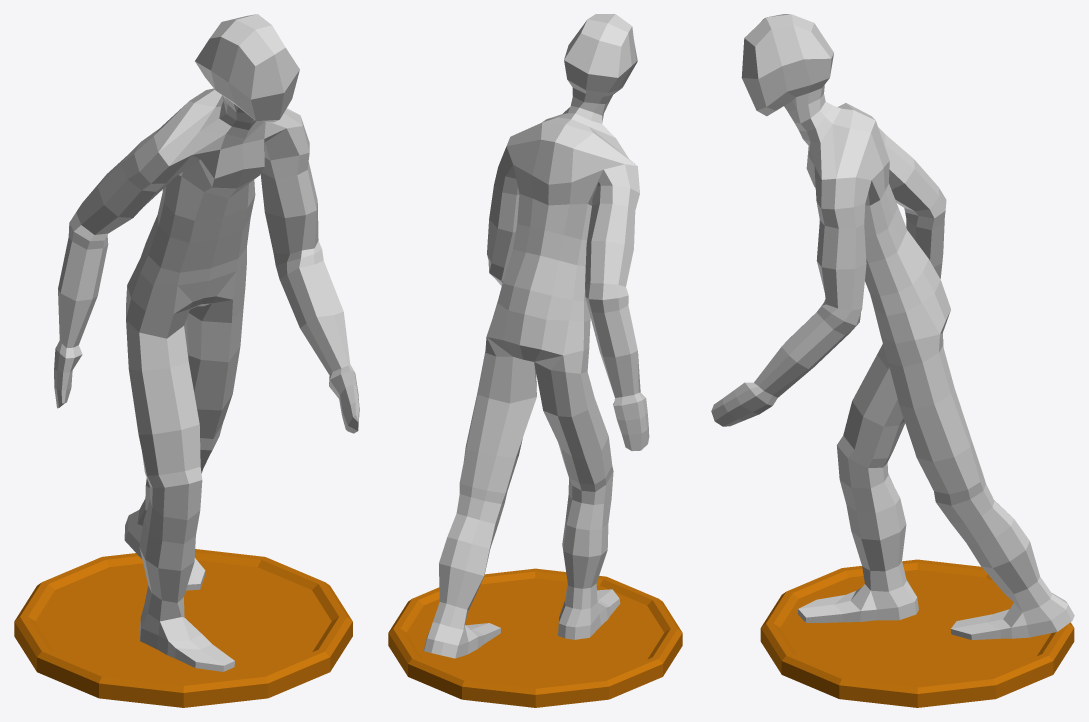
Rendered from player-thief.fbx.
The picture shows the model from 3 angles, left to right: view 1: azimuth 30°, elevation 25°; view 2: azimuth 150°, elevation 25°; view 3: azimuth 270°, elevation 25°; orthographic projection. The views are drawn at different scales.
Parts seen in each view (by area): view 1: figure, player_thief; view 2: figure, player_thief; view 3: figure, player_thief.
Boxes of the visible parts, box(x1,y1,x2,y2) form: figure: box(54, 14, 359, 671); player_thief: box(14, 549, 352, 707); figure: box(423, 14, 649, 658); player_thief: box(388, 568, 682, 707); figure: box(711, 14, 1074, 639); player_thief: box(760, 559, 1074, 707).
Size of the model in its own units: 78.39 by 171 by 90.9.
